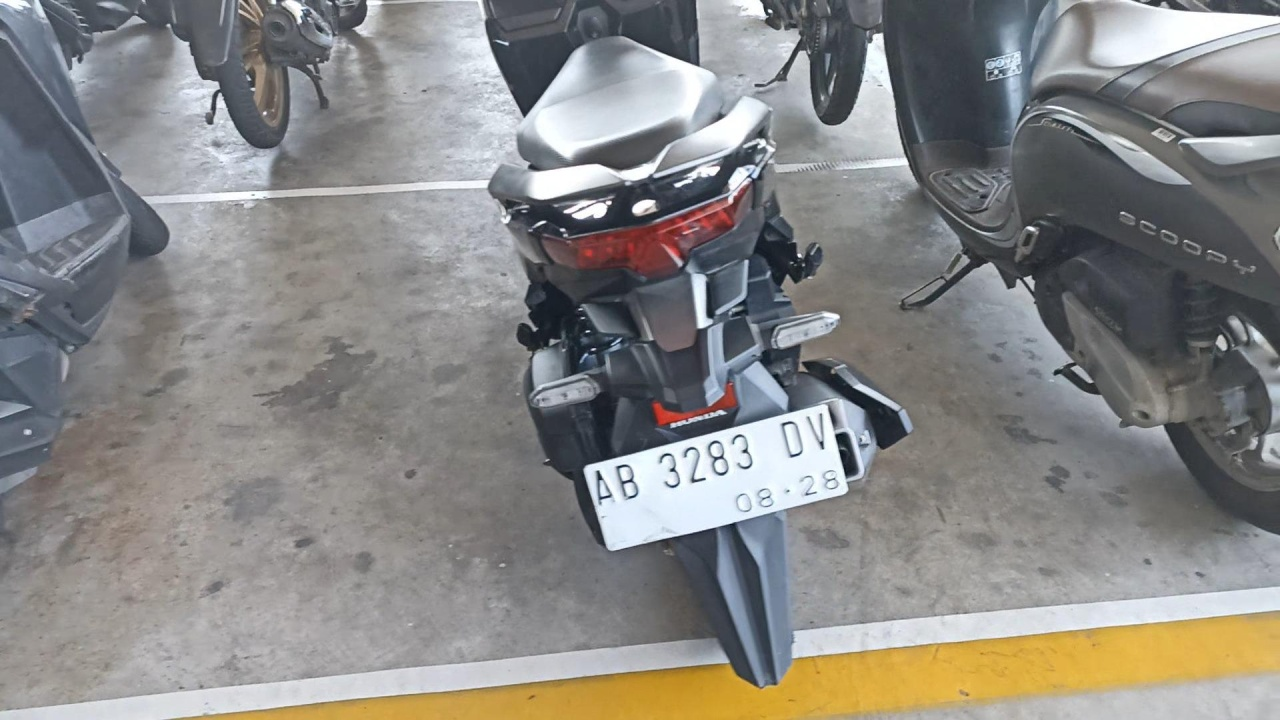plate: (584, 406, 849, 552)
